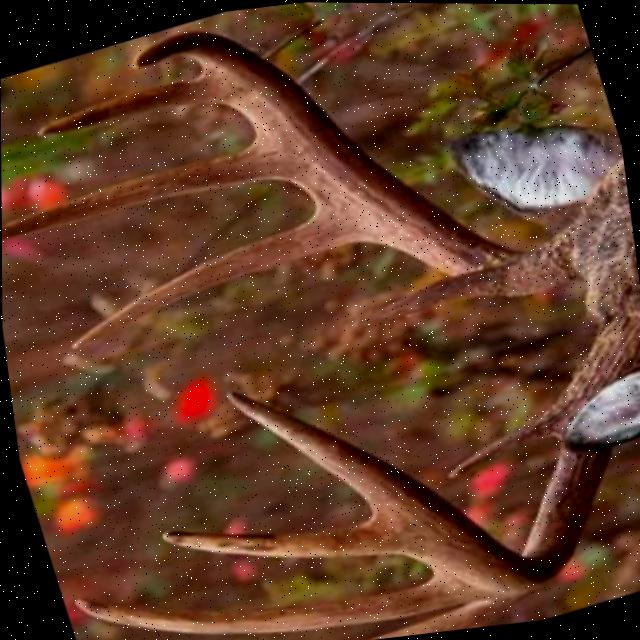L-G1: (335, 263, 511, 329)
L-G2: (72, 218, 363, 361)
L-G3: (1, 139, 280, 241)
L-G4: (34, 72, 216, 136)
R-G1: (442, 408, 556, 480)
R-G3: (70, 575, 474, 635)
R-G4: (157, 515, 392, 559)
